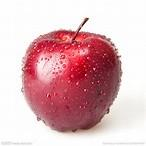apple: (19, 20, 121, 134)
